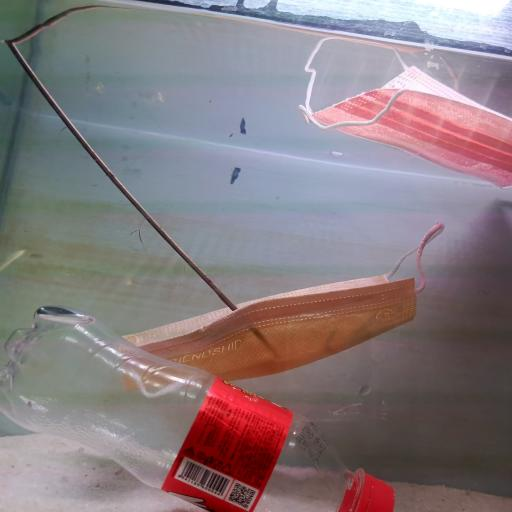bottle_cap: (341, 465, 399, 512)
mask: (113, 281, 440, 375), (304, 60, 512, 189)
plastic_bottle: (3, 301, 413, 512)
